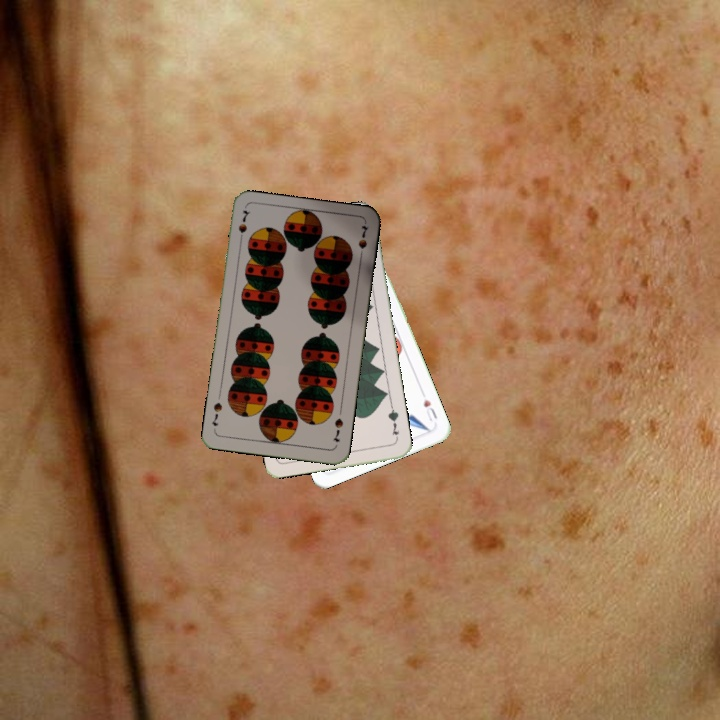G7: (384, 403, 402, 438)
HU: (419, 395, 440, 424)
S7: (234, 206, 253, 246), (329, 414, 346, 445)
